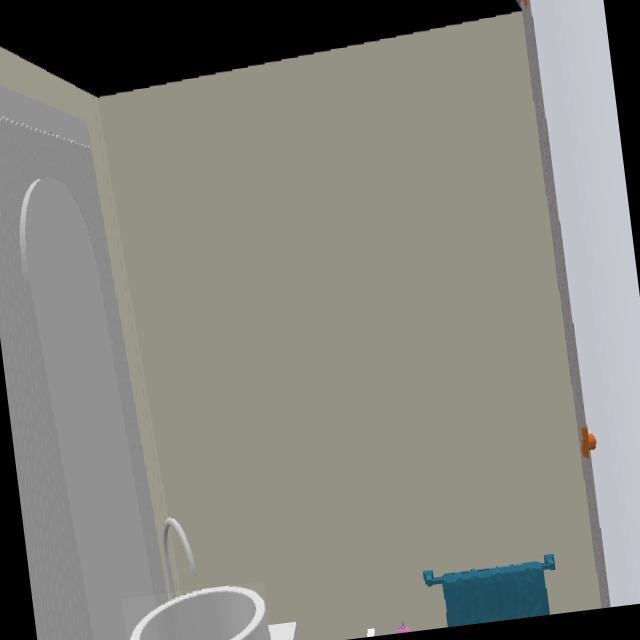washbasin: (129, 585, 271, 640)
